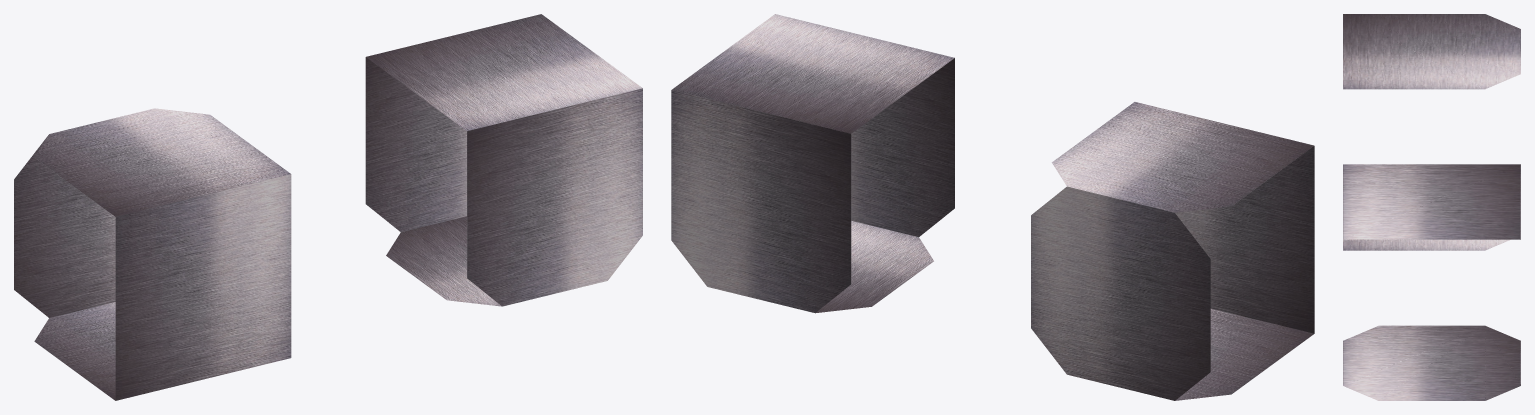
The model's file is rotacion.obj.
The picture shows the model from 3 angles, left to right: view 1: azimuth 30°, elevation 25°; view 2: azimuth 150°, elevation 25°; view 3: azimuth 270°, elevation 25°; orthographic projection. The views are drawn at different scales.
Size of the model in its own units: 3 by 1 by 1.
